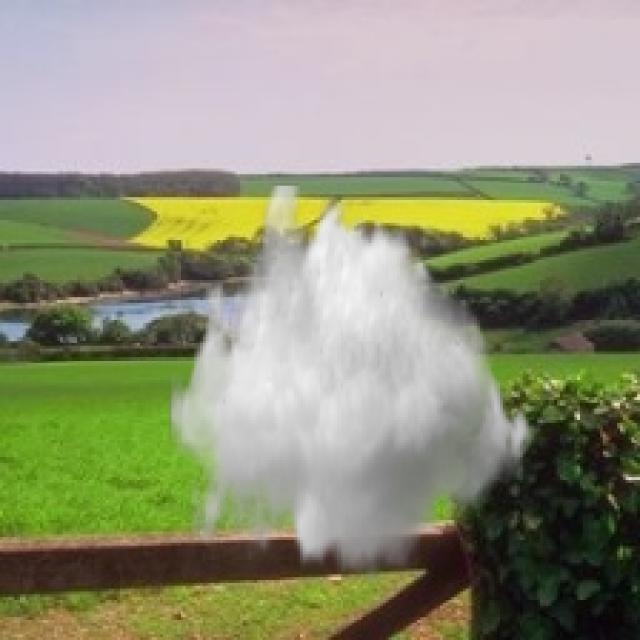Smoke: (168, 183, 540, 580)
